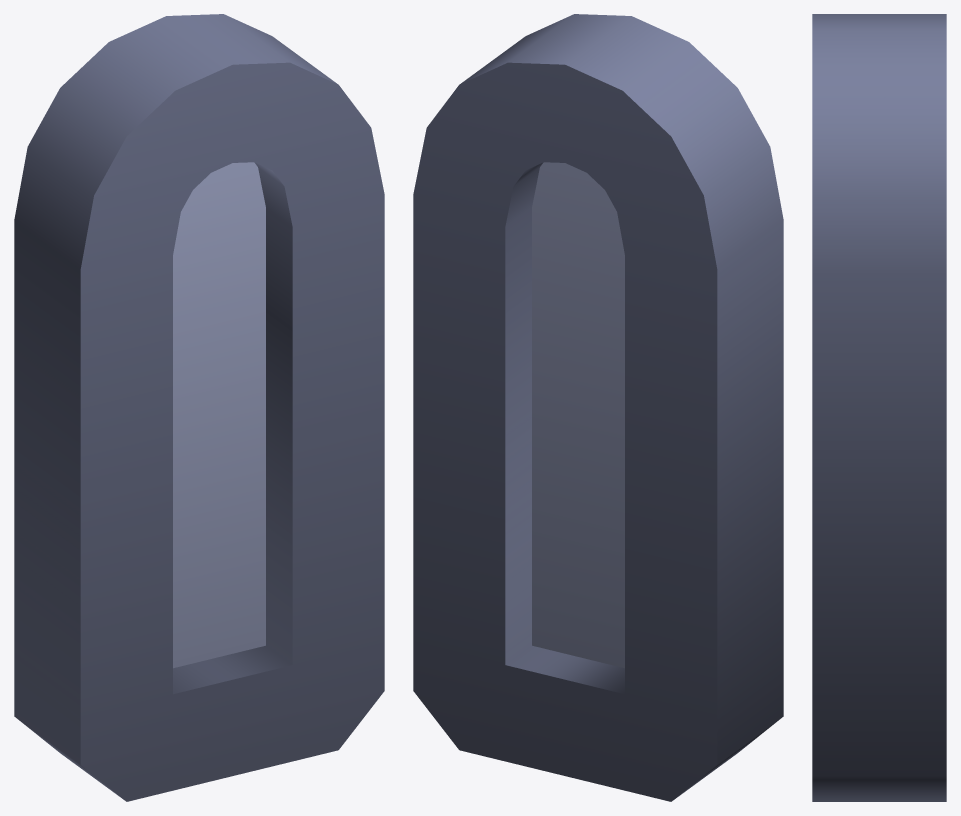
File: door.001_lev2.glb
The picture shows the model from 3 angles, left to right: view 1: azimuth 30°, elevation 25°; view 2: azimuth 150°, elevation 25°; view 3: azimuth 270°, elevation 25°; orthographic projection.
Visible parts, largest first — view 1: door.001_lev2; view 2: door.001_lev2; view 3: door.001_lev2.
Boxes of the visible parts, x1,y1,x2,y2 form: door.001_lev2: (14,14,384,801); door.001_lev2: (413,14,783,801); door.001_lev2: (812,14,946,801).
Size of the model in its own units: 2.64 by 5.9 by 1.
1 material, 1 textured.
